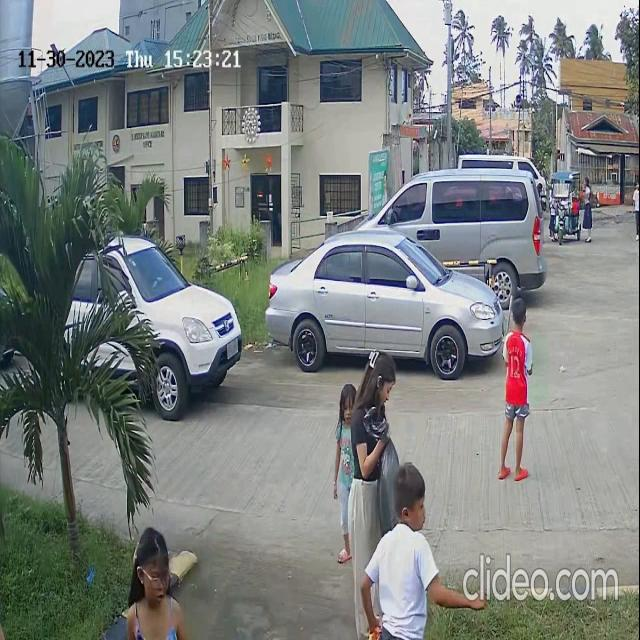person: (126, 522, 178, 640), (353, 346, 399, 479), (387, 476, 432, 598), (502, 298, 531, 398), (333, 384, 356, 464), (580, 172, 596, 236)
